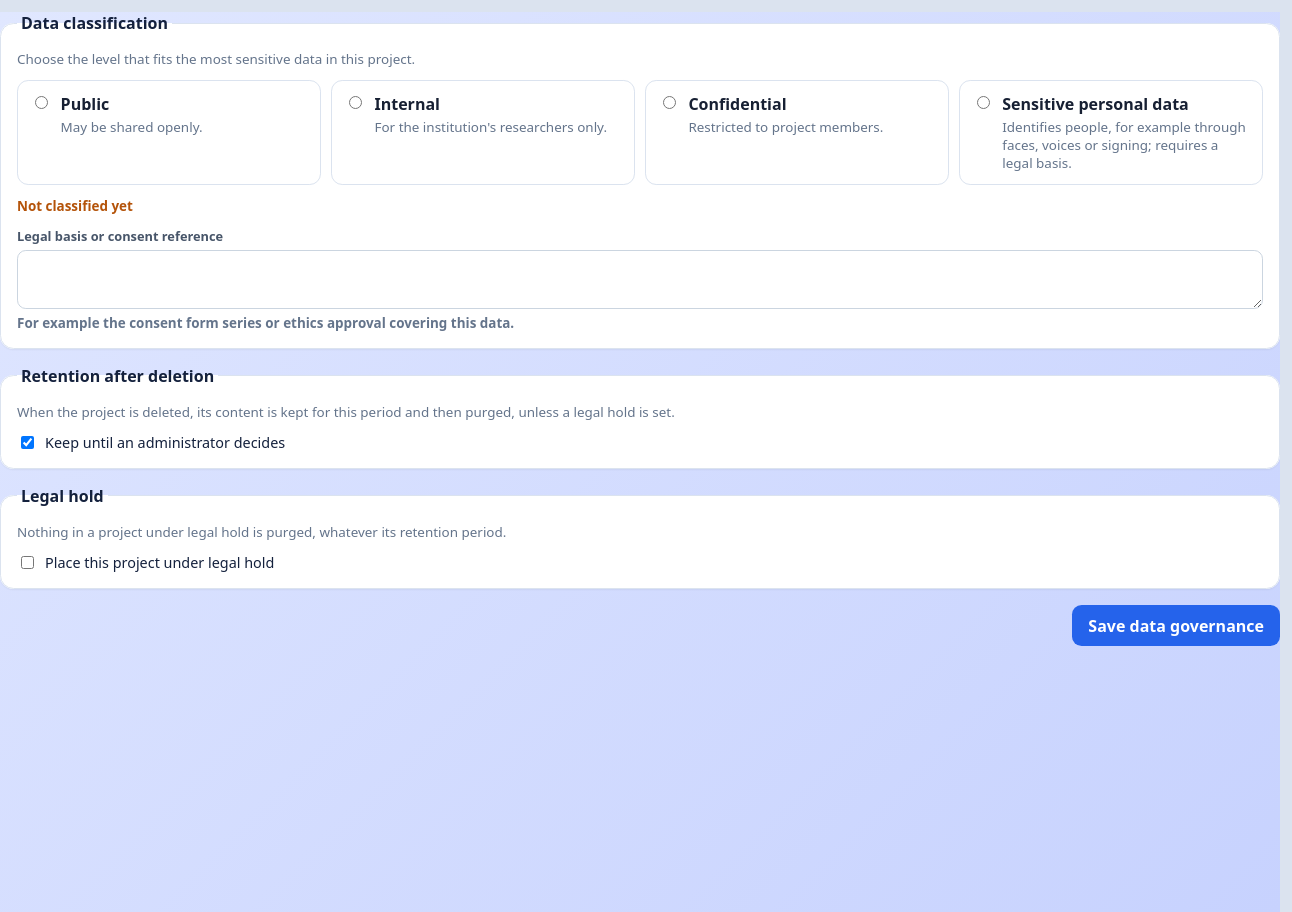
Test: ConfigureDataGovernance › saves a retention period and a legal hold with its reason
Click the radio button labelled "Internal For the institution's researchers only.".
click(355, 102)  # box [349,96,362,109]
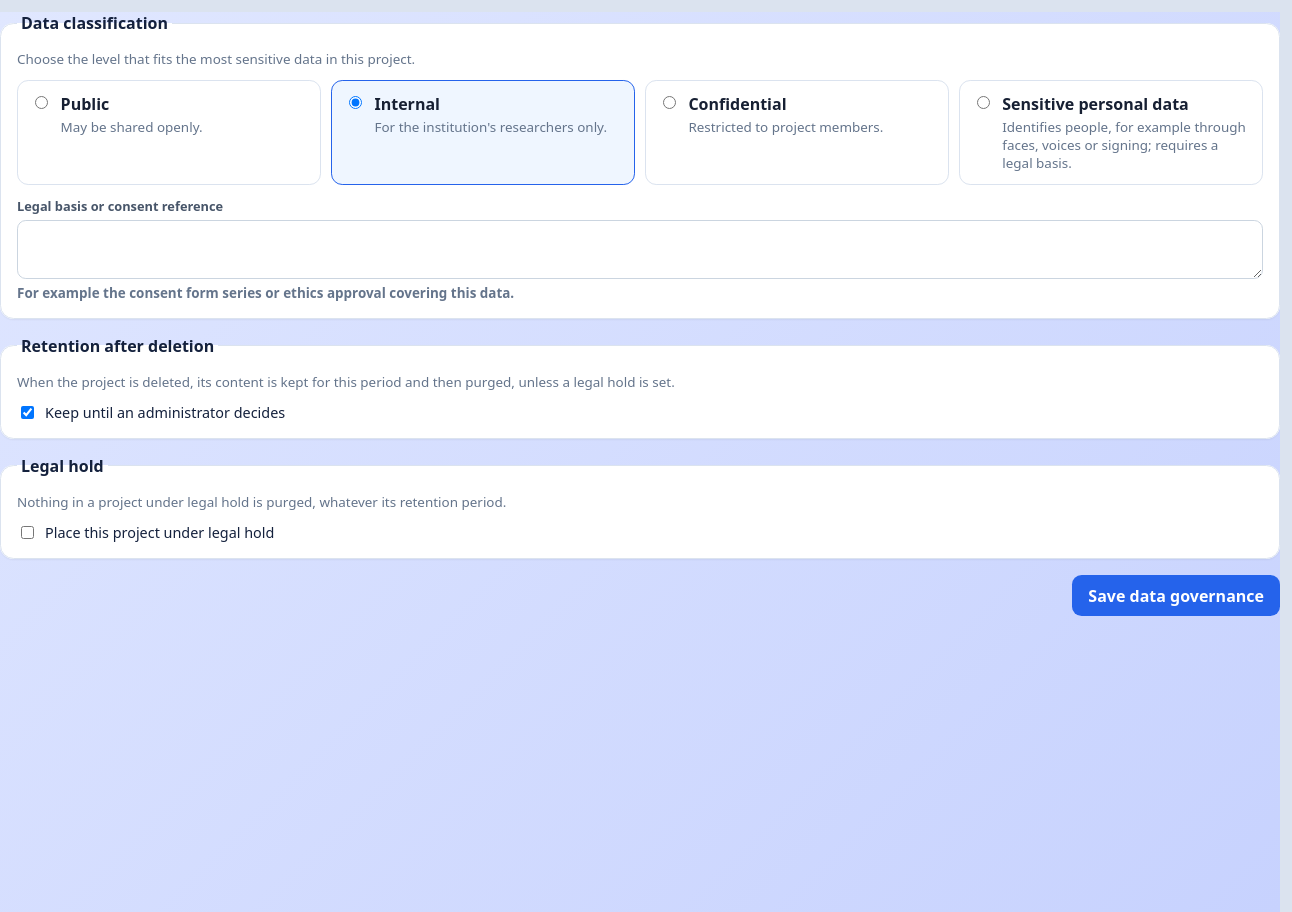
Click the checkbox labelled "Keep until an administrator decides".
click(28, 412)  # box [21,406,34,419]
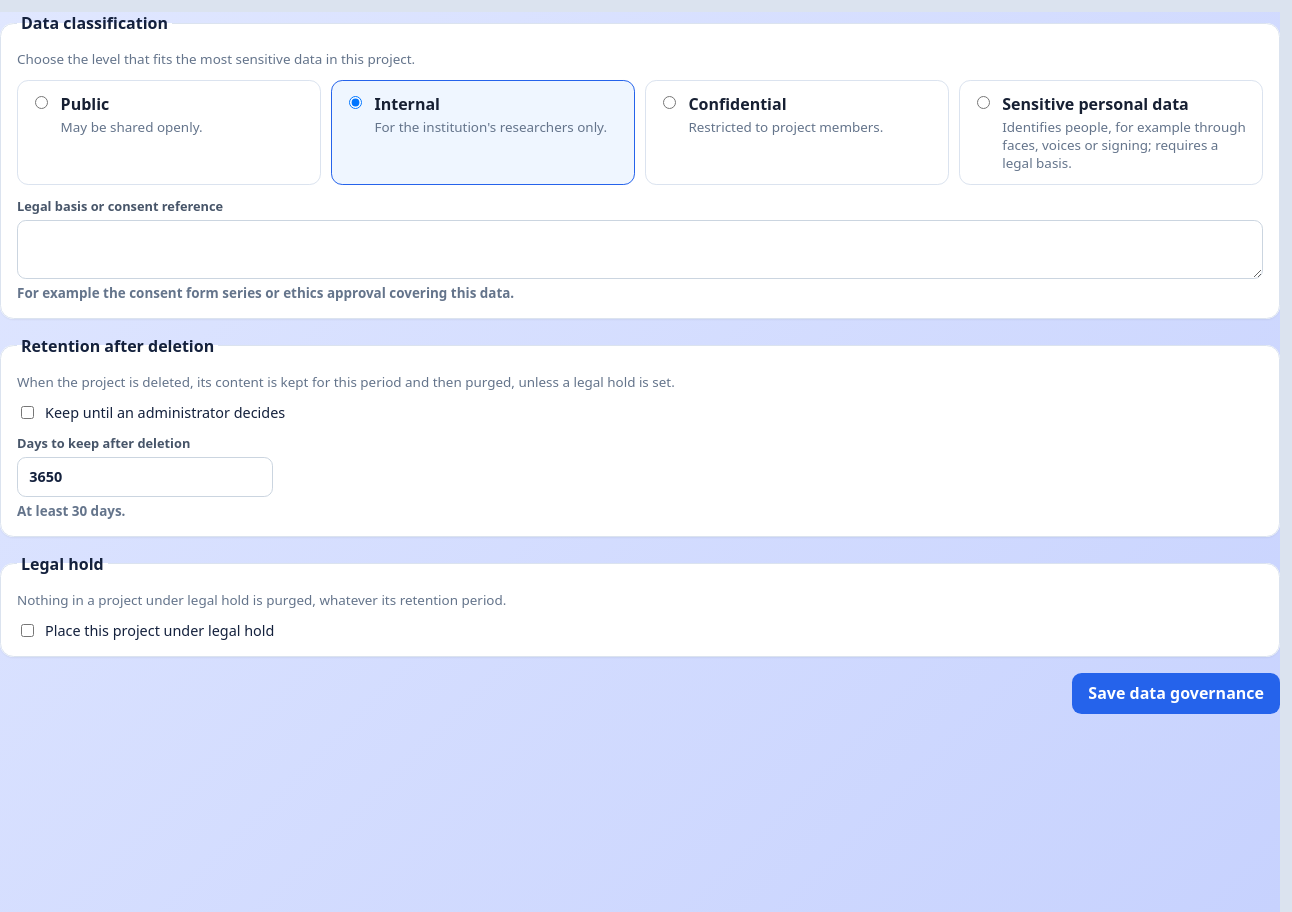
Replace the text in the number field labelled "Days to keep after deletion At least 30 days." with "90" at {"x": 145, "y": 477}, box [17,457,273,497]
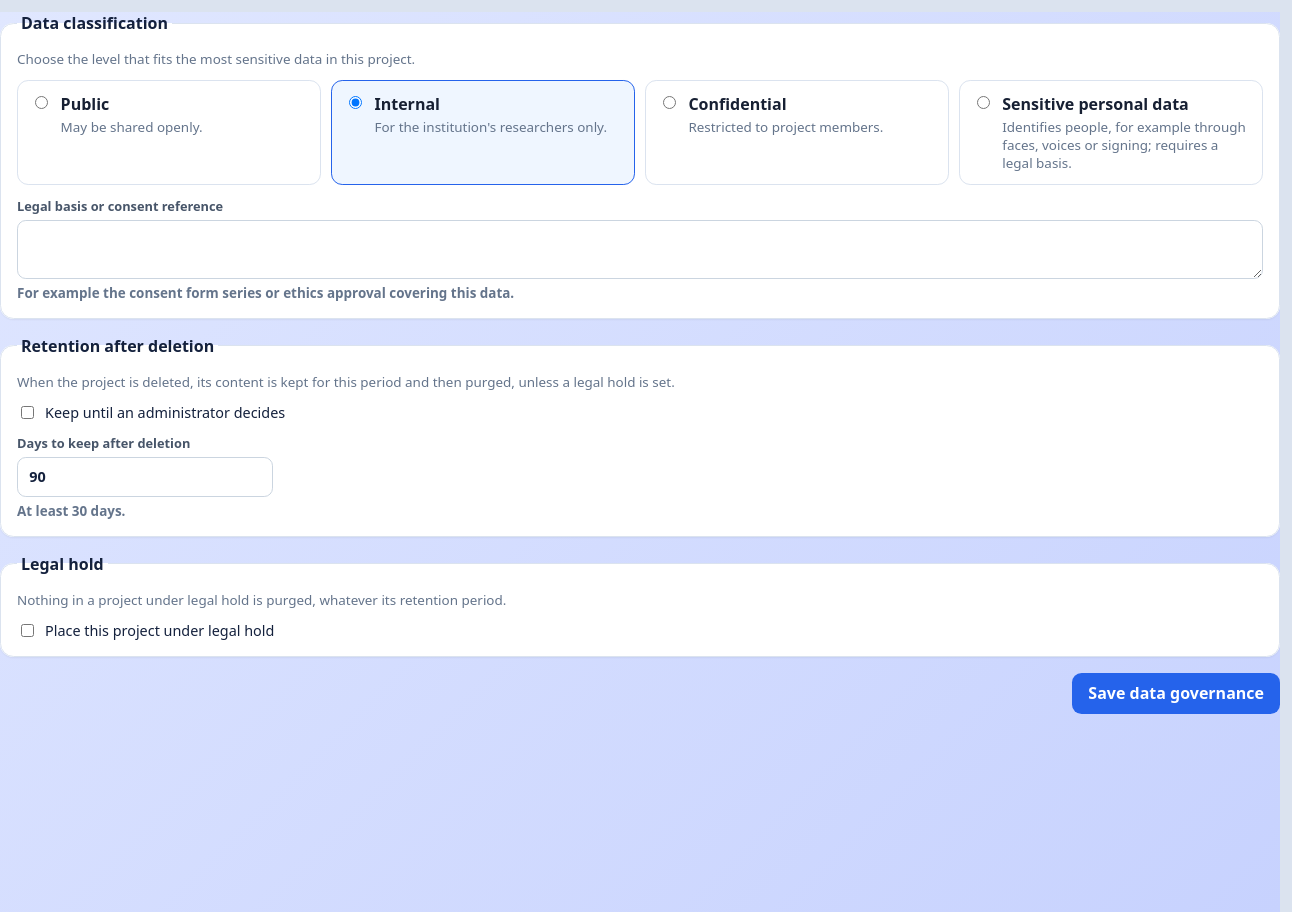
Click the checkbox labelled "Place this project under legal hold".
click(28, 630)  # box [21,624,34,637]
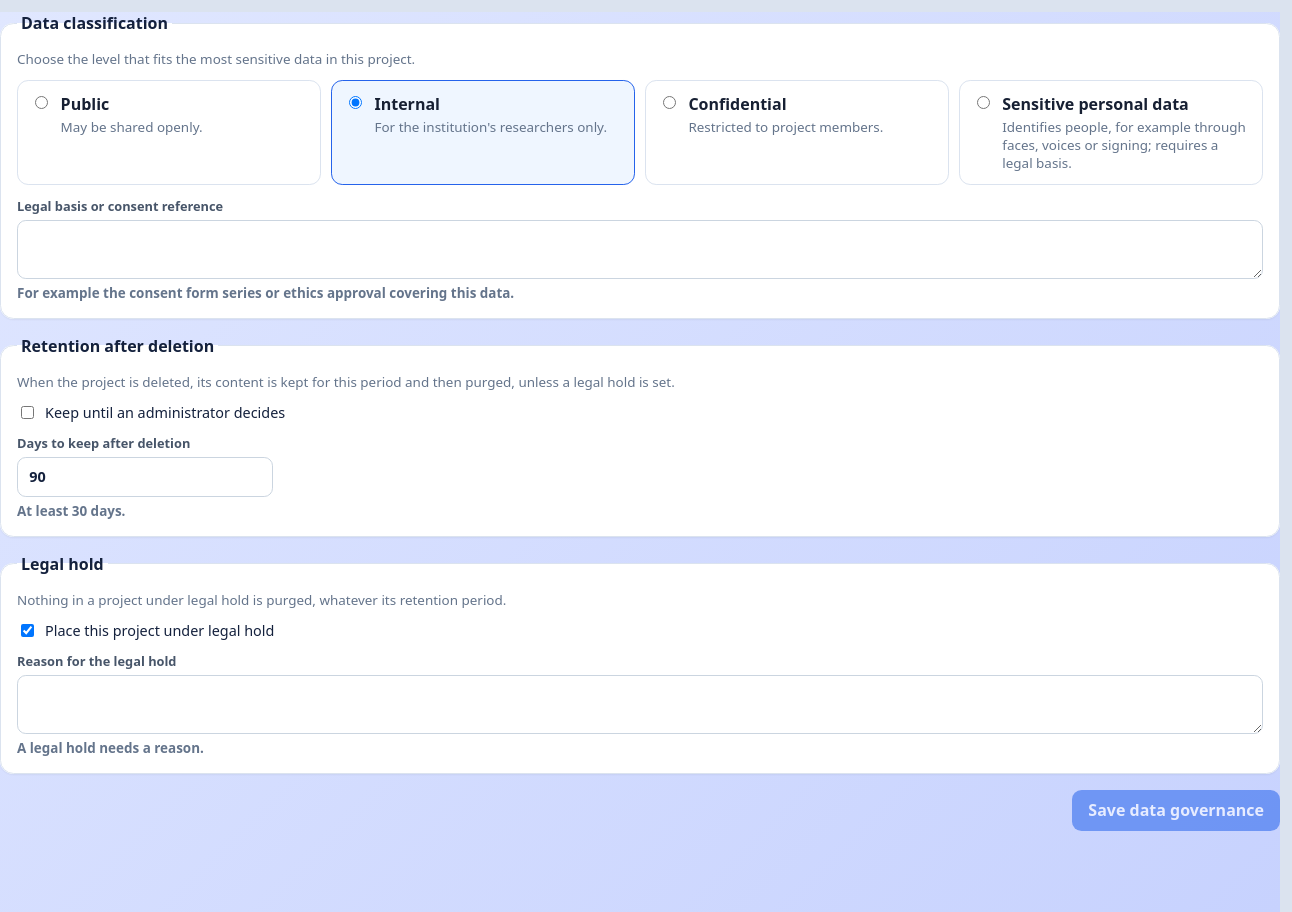
Expected: the submit button is disabled, [1072,790,1280,831]
Type "Audit 2026-17" into the text box labelled "Reason for the legal hold A legal hold needs a reason.".
click(640, 704); type("Audit 2026-17")  # box [17,674,1263,734]
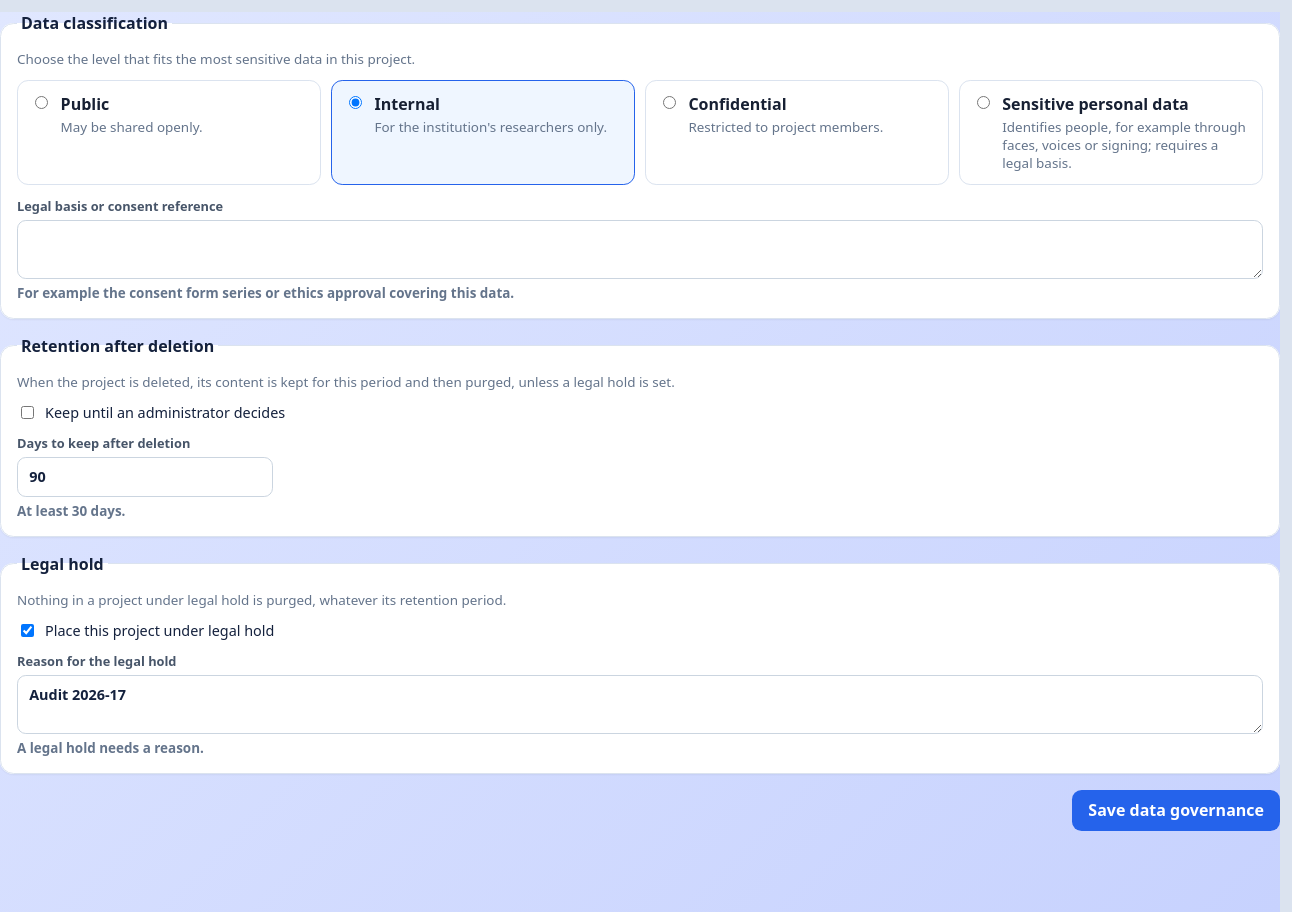
Submit the form
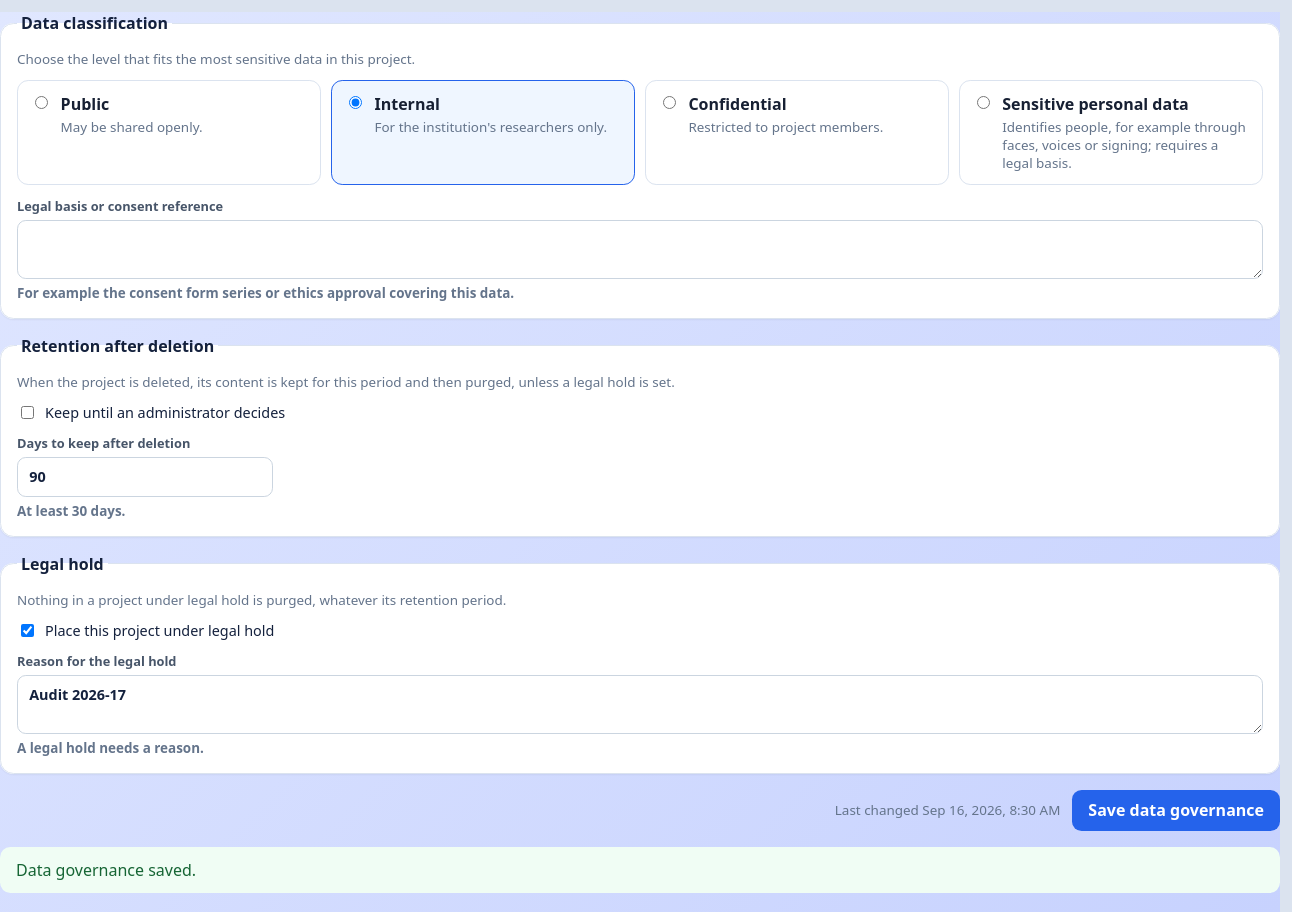
Expected: the text "Data governance saved." is shown, [0,847,1280,893]
Expected: the text "Last changed" is shown, [835,801,1060,819]
